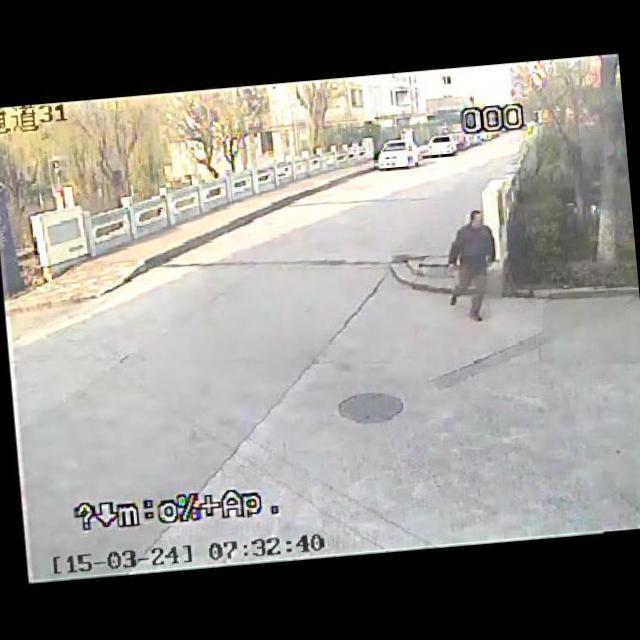person: (433, 192, 510, 326)
